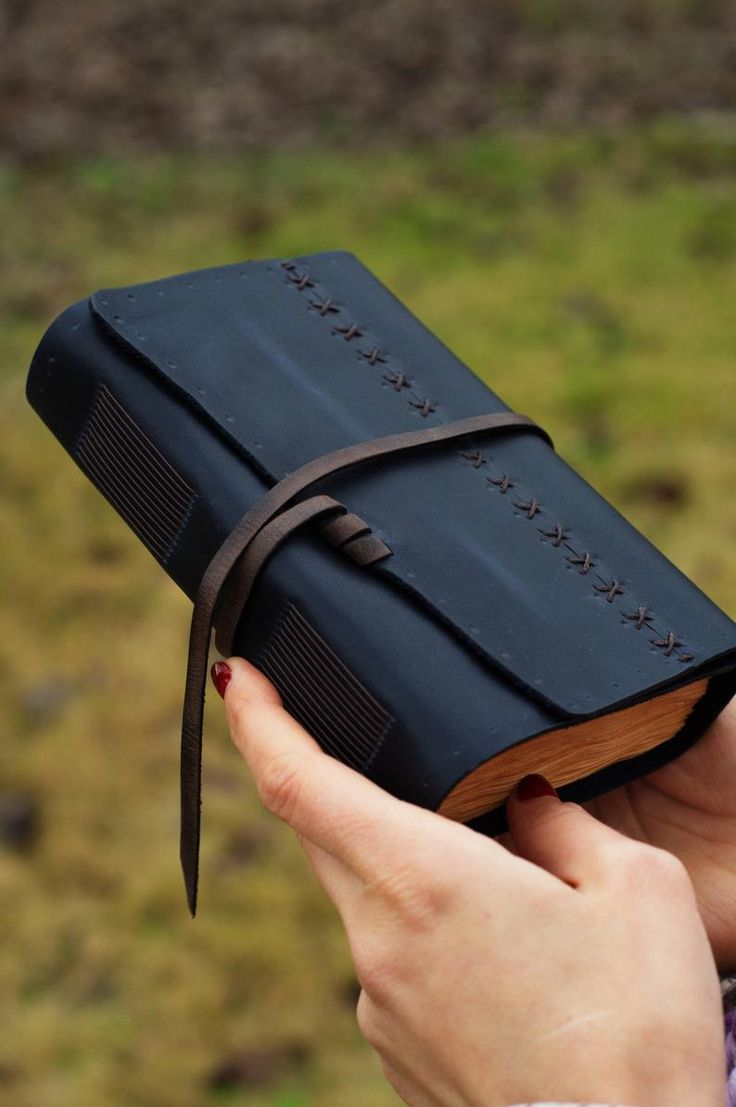cuero: (29, 243, 736, 921)
